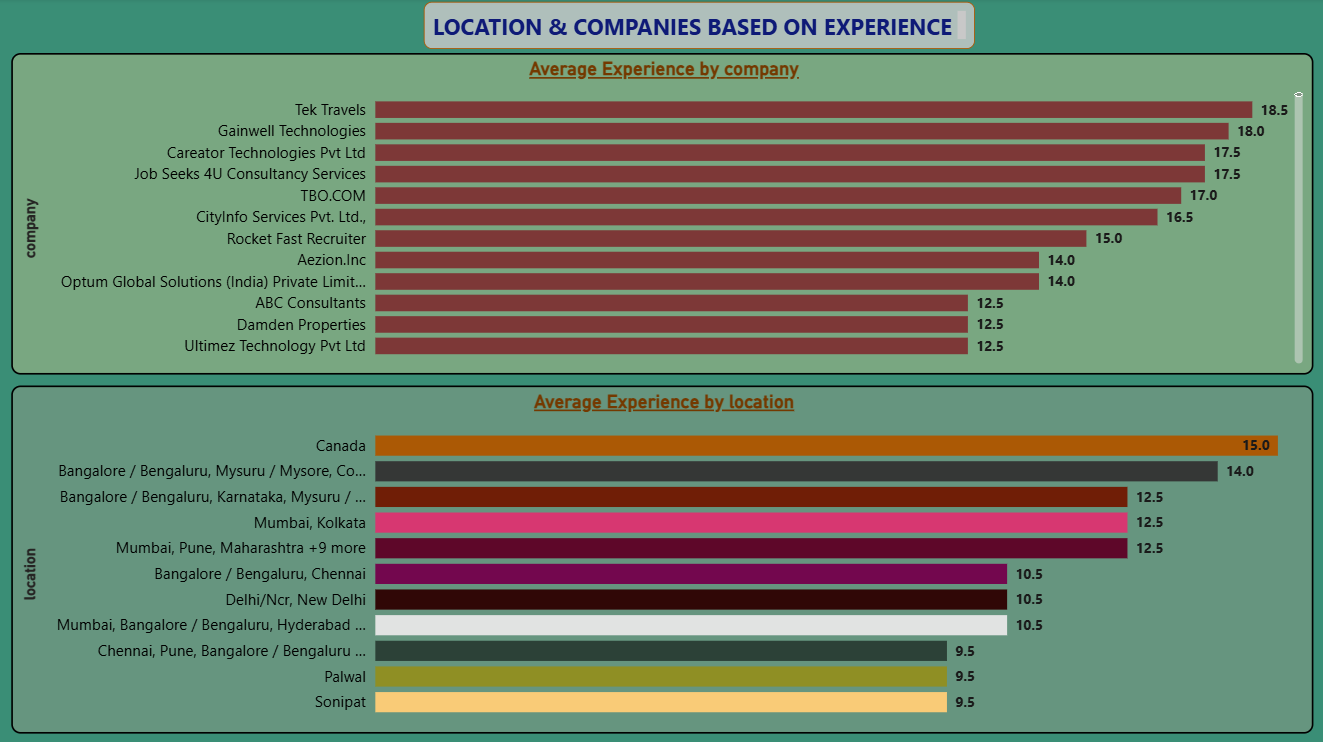

Layout of this report page (visuals, bound fields, positions):
{"tool":"powerbi","page":{"name":"Page 2","canvas":[1280,720],"ordinal":1},"visuals":[{"type":"barChart","fields":{"Y":["dataAnalystJobsIndia_7th_July_2024.Average Experience by Location"],"Category":["dataAnalystJobsIndia_7th_July_2024.location"]},"box":[10.3,351.3,1257.7,353.8],"z":0},{"type":"barChart","fields":{"Y":["dataAnalystJobsIndia_7th_July_2024.Average Experience by Location"],"Category":["dataAnalystJobsIndia_7th_July_2024.company"]},"box":[10.3,14.1,1257.7,320.5],"z":1000}]}

Visuals, with their boxes in screenshot pixels (x1, y1, x2, y2), scaled from the page's 1280x720 canvas onto the 1323x742 screenshot:
barChart - dataAnalystJobsIndia_7th_July_2024.Average Experience by Location x dataAnalystJobsIndia_7th_July_2024.location: [left=11, top=362, right=1311, bottom=727]
barChart - dataAnalystJobsIndia_7th_July_2024.Average Experience by Location x dataAnalystJobsIndia_7th_July_2024.company: [left=11, top=15, right=1311, bottom=345]
